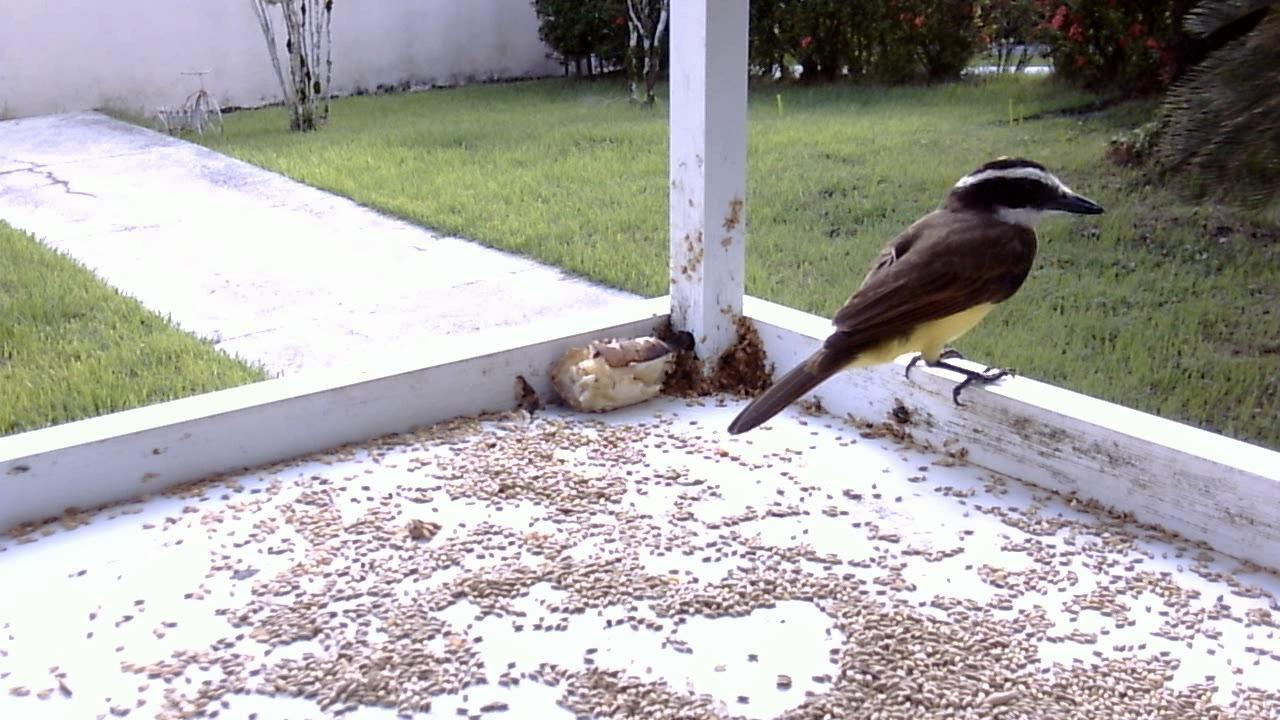bem_te_vi: (712, 154, 1109, 437)
